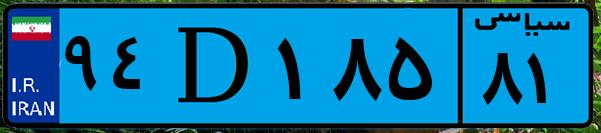1: (270, 28, 330, 110), (525, 38, 570, 115)
4: (110, 28, 158, 98)
5: (385, 28, 445, 110)
8: (330, 28, 385, 110), (475, 38, 525, 113)
9: (57, 26, 110, 100)
D: (158, 12, 270, 120)
